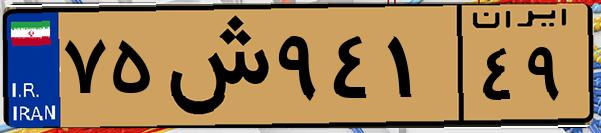1: (385, 28, 445, 110)
4: (330, 28, 385, 110), (475, 38, 525, 113)
5: (110, 28, 158, 98)
7: (57, 26, 110, 100)
9: (270, 28, 330, 110), (525, 38, 570, 115)
ش: (158, 12, 270, 120)
